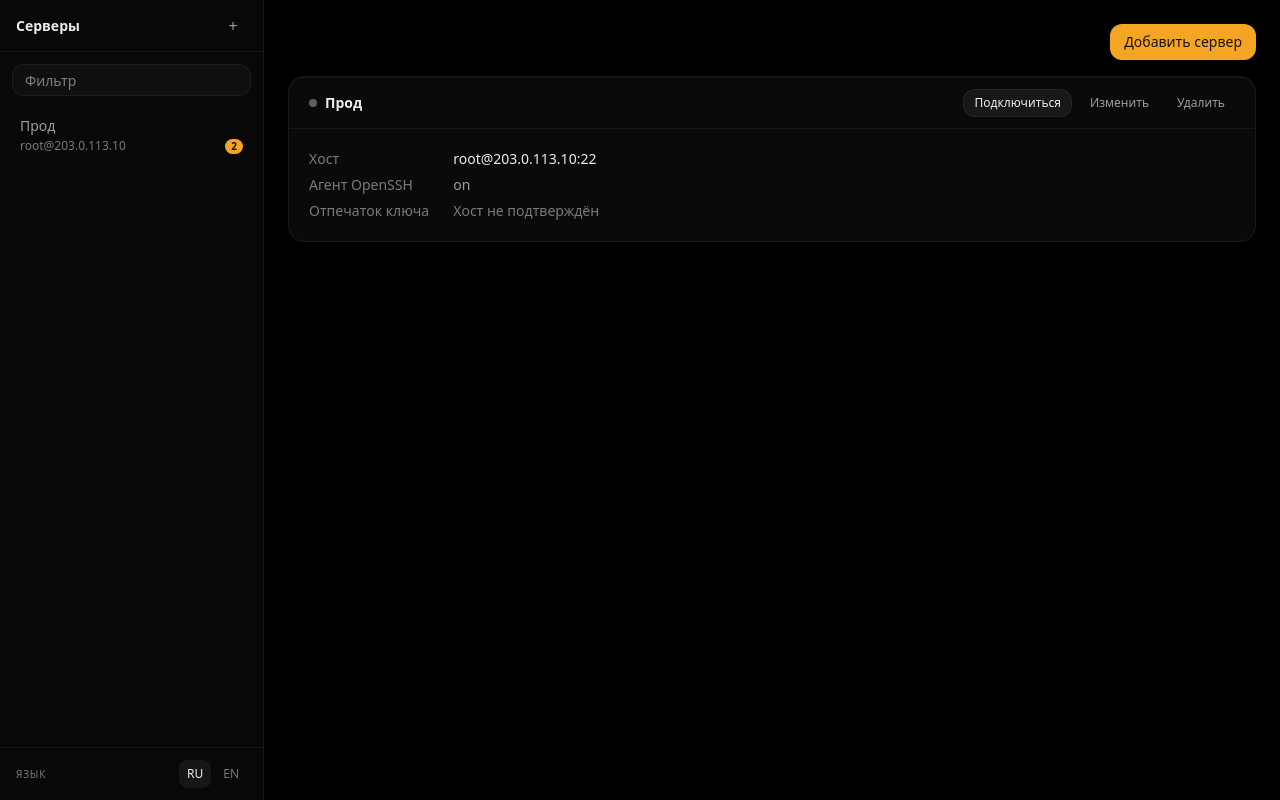
it: навигация › из ленты возврат ведёт на обзор, а не на список серверов
This screenshot has width=1280, height=800.
Click the button "2": [234, 146] box left=225, top=138, right=243, bottom=154
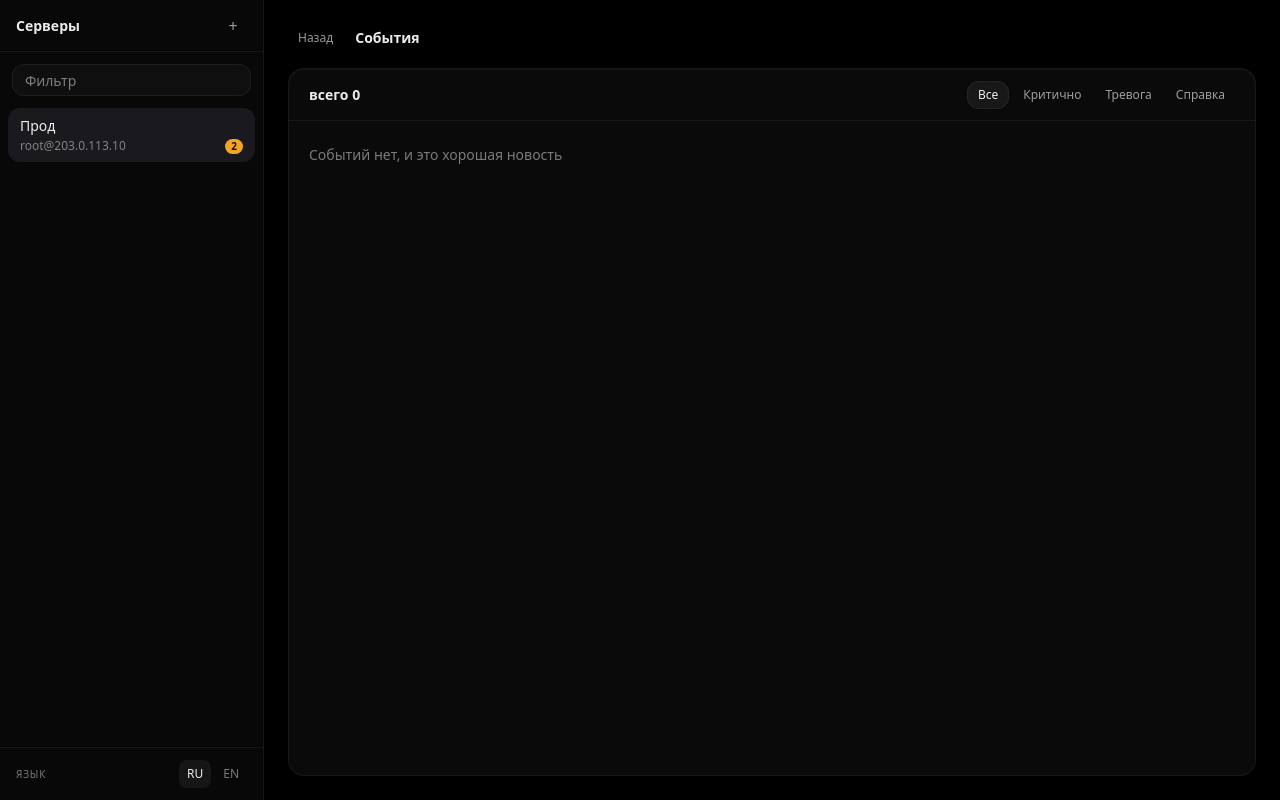
Click the button "Назад": [316, 38] box left=288, top=24, right=343, bottom=52
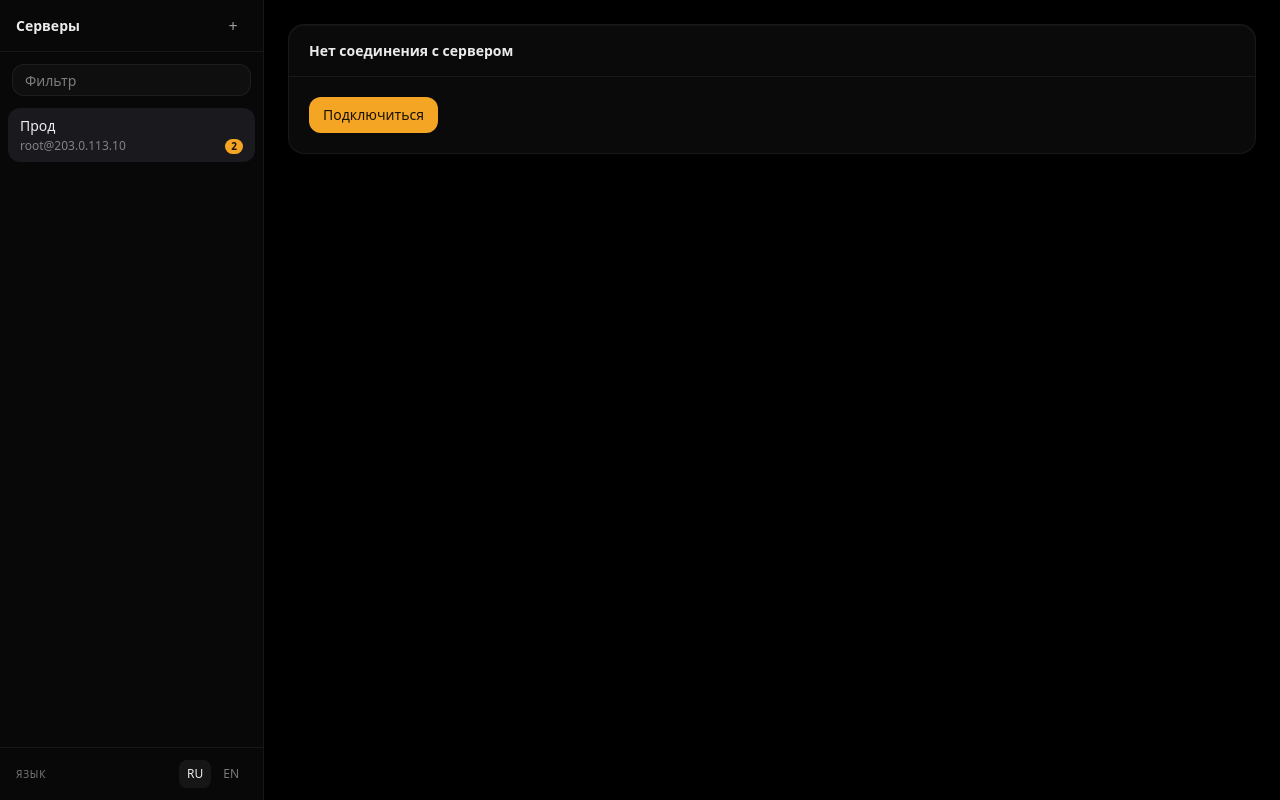
Expected: the button "Подключиться" is shown, left=309, top=97, right=438, bottom=133
